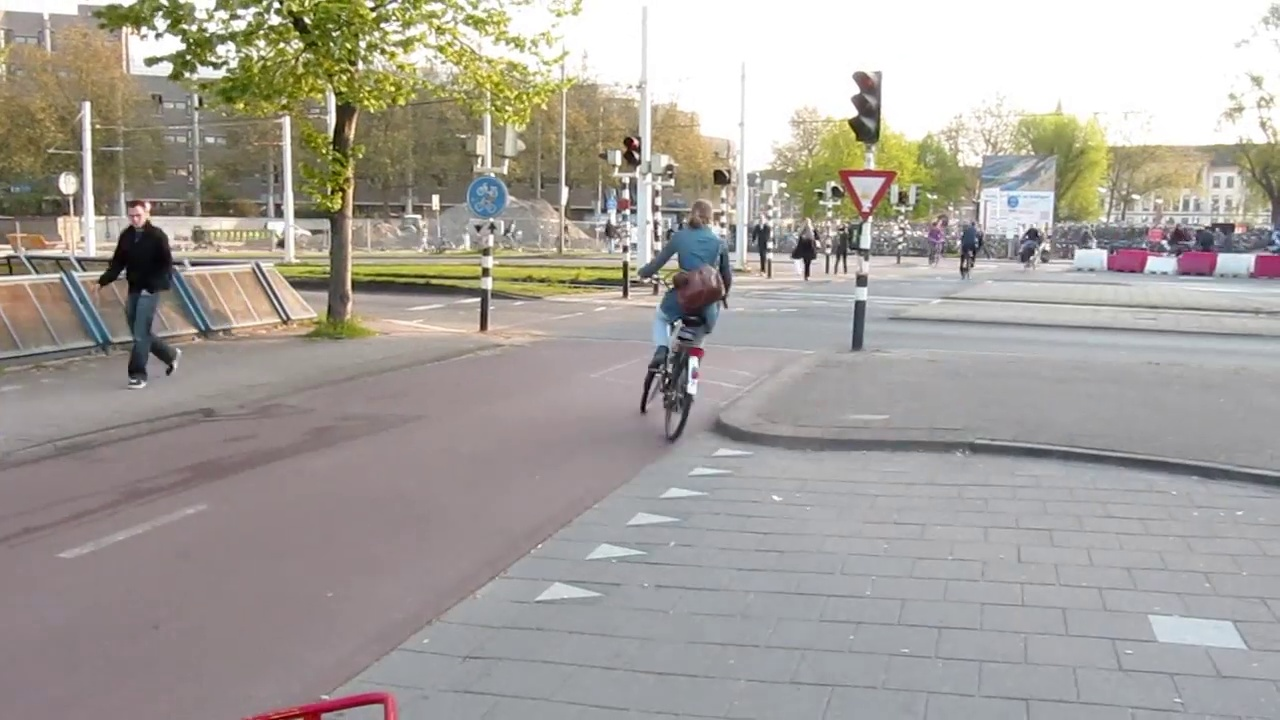cyclist_back: (636, 199, 719, 448), (960, 216, 979, 285)
